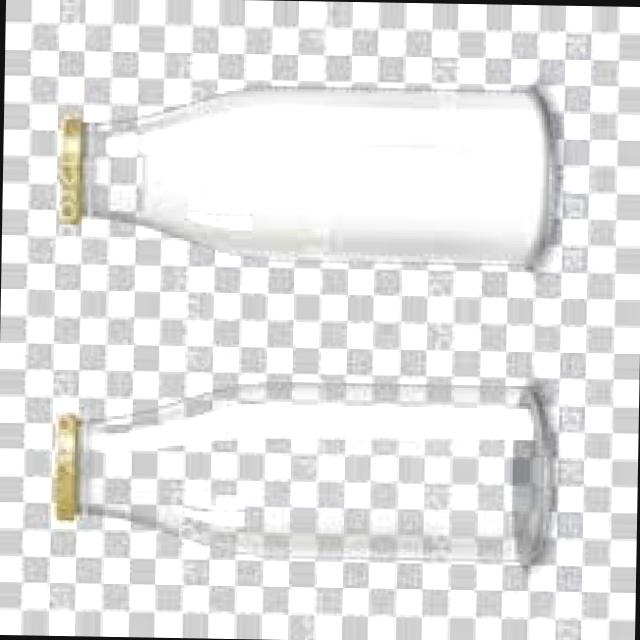bottle: (54, 383, 552, 565), (59, 90, 551, 263)
